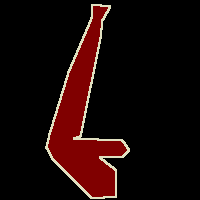tie: (46, 4, 129, 198)
